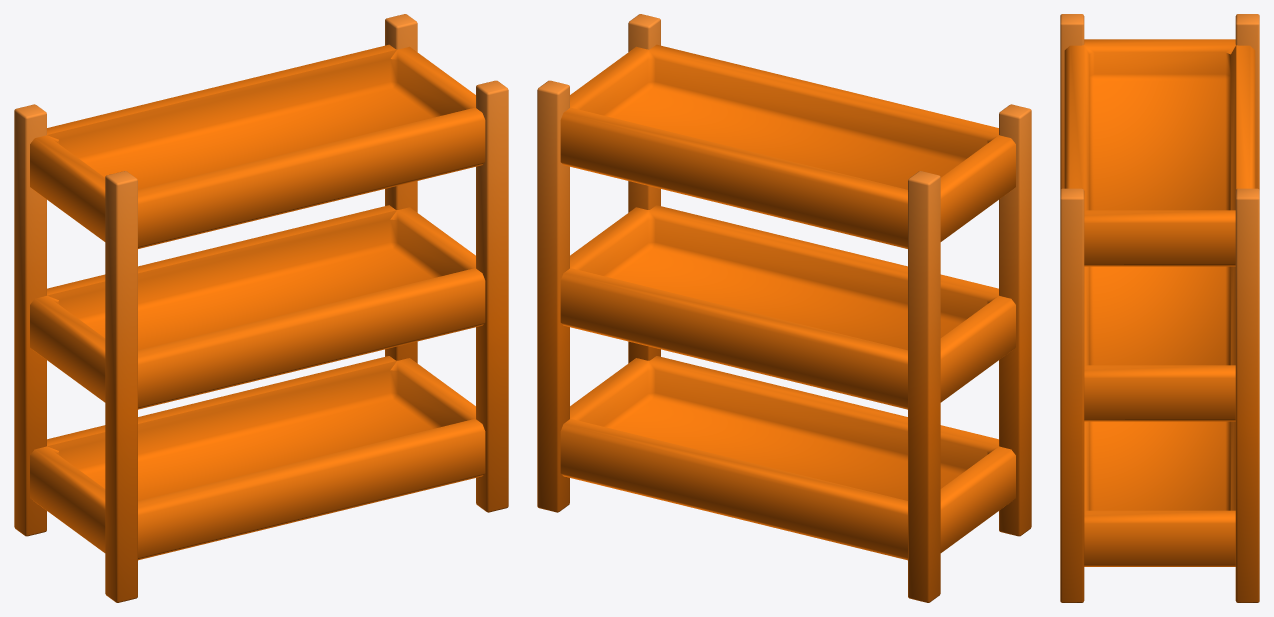
The model's file is Kitchen_Rack_01_C03.fbx.
3 renders of one model, left to right at view 1: azimuth 30°, elevation 25°; view 2: azimuth 150°, elevation 25°; view 3: azimuth 270°, elevation 25°, orthographic. The views are drawn at different scales.
Visible parts, largest first — view 1: Kitchen_Rack_01_C03; view 2: Kitchen_Rack_01_C03; view 3: Kitchen_Rack_01_C03.
Part boxes in pixels (bbox=[...]): Kitchen_Rack_01_C03: bbox=[14, 14, 508, 602]; Kitchen_Rack_01_C03: bbox=[537, 14, 1031, 602]; Kitchen_Rack_01_C03: bbox=[1060, 14, 1259, 602].
Size of the model in its own units: 159 by 162 by 72.34.
